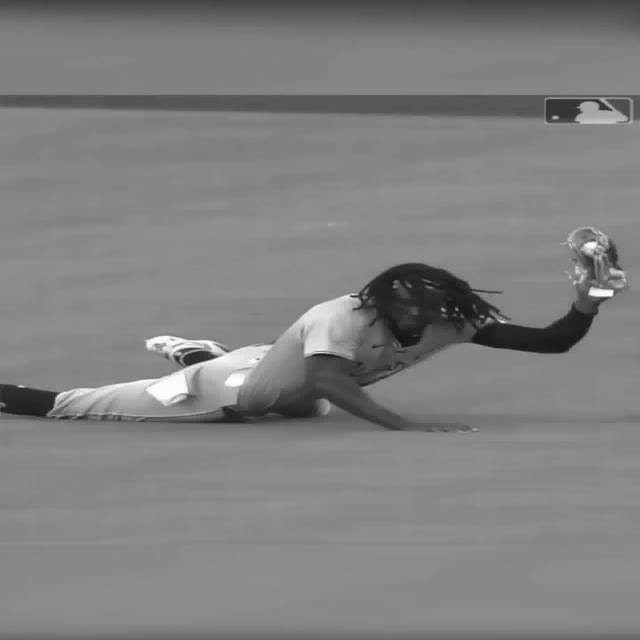baseball: (581, 238, 601, 256)
baseball_glove: (557, 227, 636, 297)
shoe: (144, 336, 227, 358)
